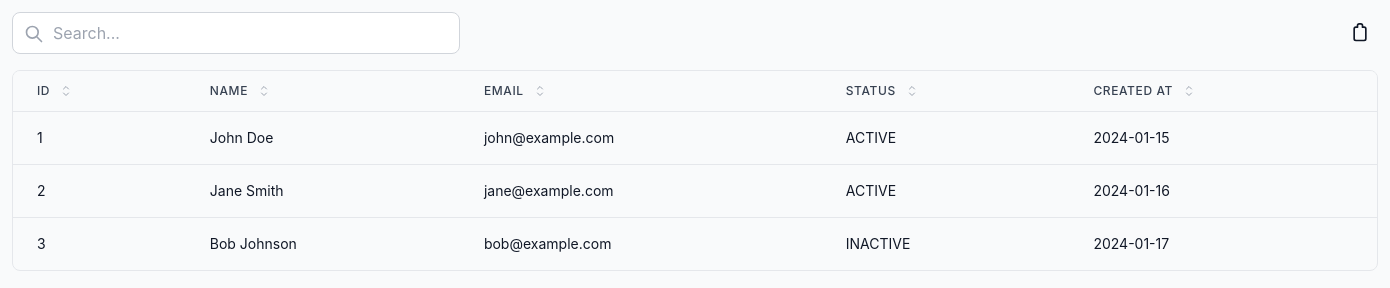
it: DataTable › should toggle sort direction
First click - ascending
Click the text "Name". click: (241, 91)
box: [210, 83, 272, 99]
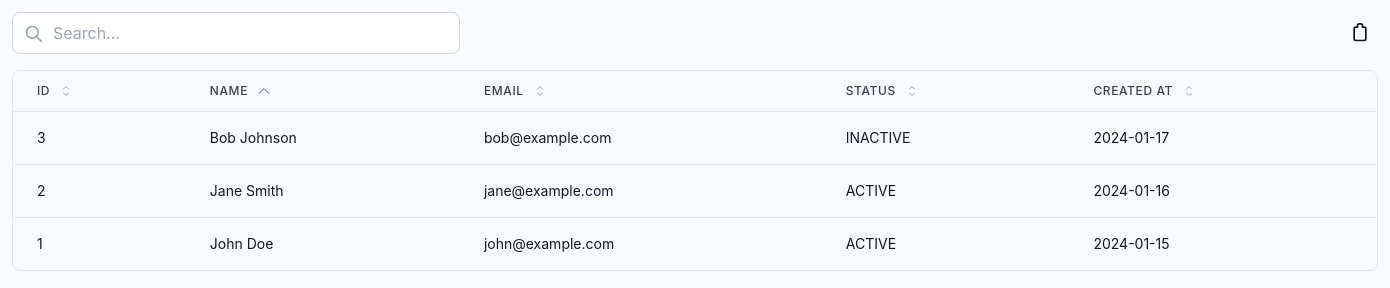
Check: the row "3 Bob Johnson bob@example.com INACTIVE 2024-01-17" is shown, box [13, 112, 1377, 164]
Second click - descending
Click the text "Name". click: (241, 91)
box: [210, 83, 272, 99]
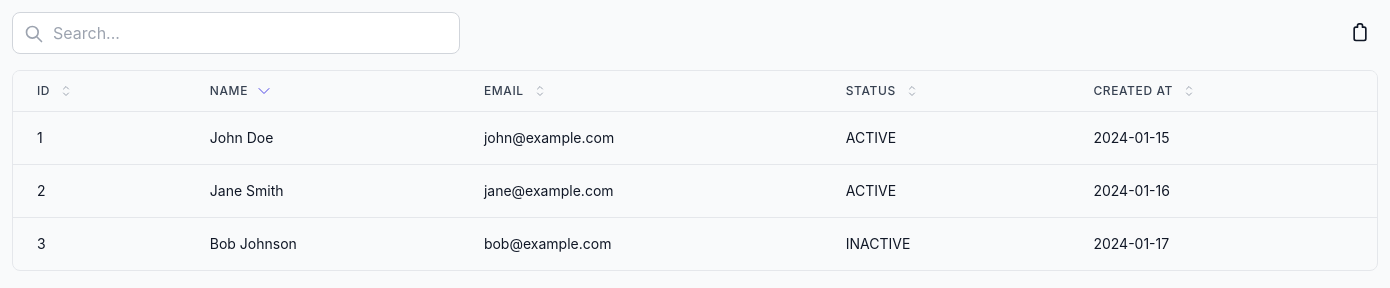
Check: the row "1 John Doe john@example.com ACTIVE 2024-01-15" is shown, box [13, 112, 1377, 164]
